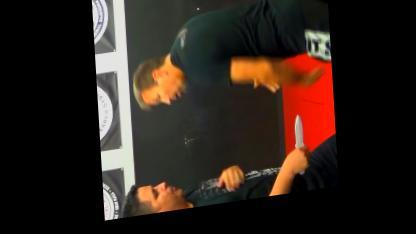knife: (285, 118, 306, 190)
